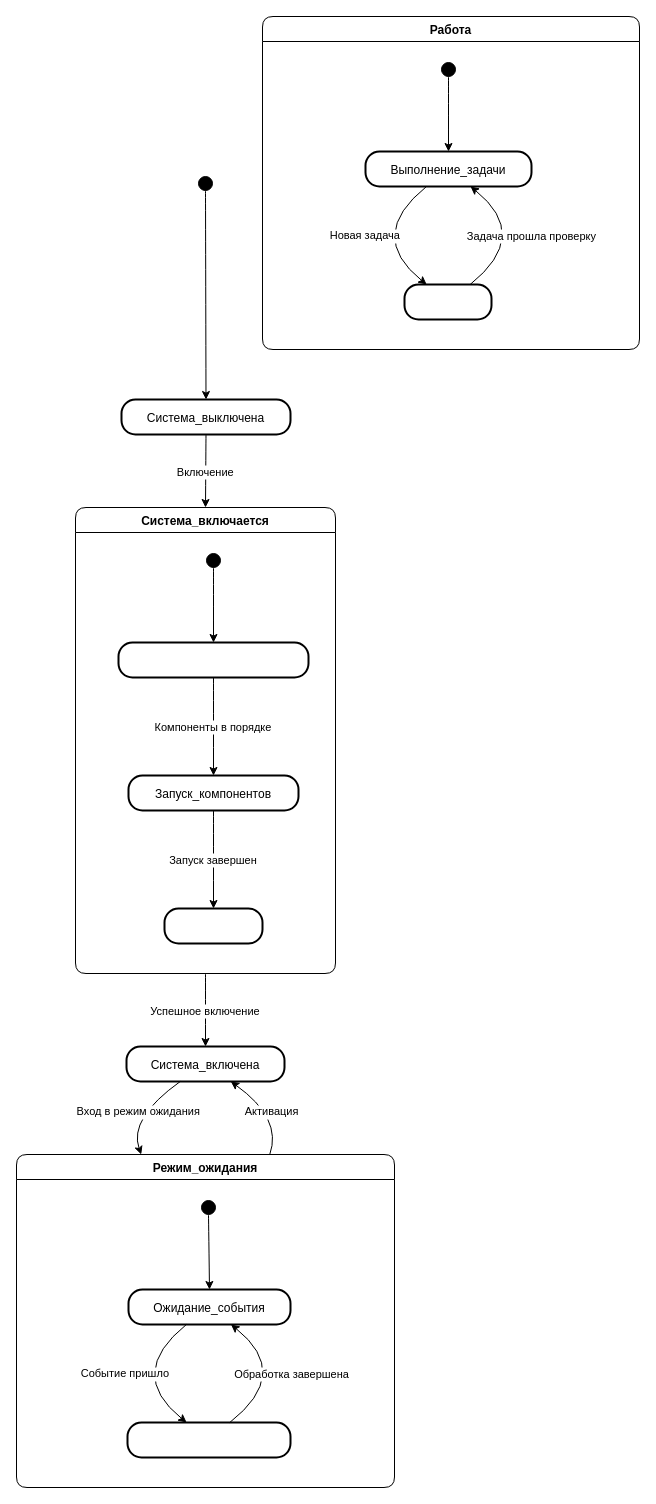
The diagram is 656 pixels wide and 1504 high, and some of its shapes have lost their labels. Each missing label, with the box of its shape:
Готовность: (163, 907, 263, 944)
Обработка_события: (126, 1421, 291, 1458)
Проверка: (403, 283, 492, 320)
Проверка_компонентов: (117, 641, 309, 678)
